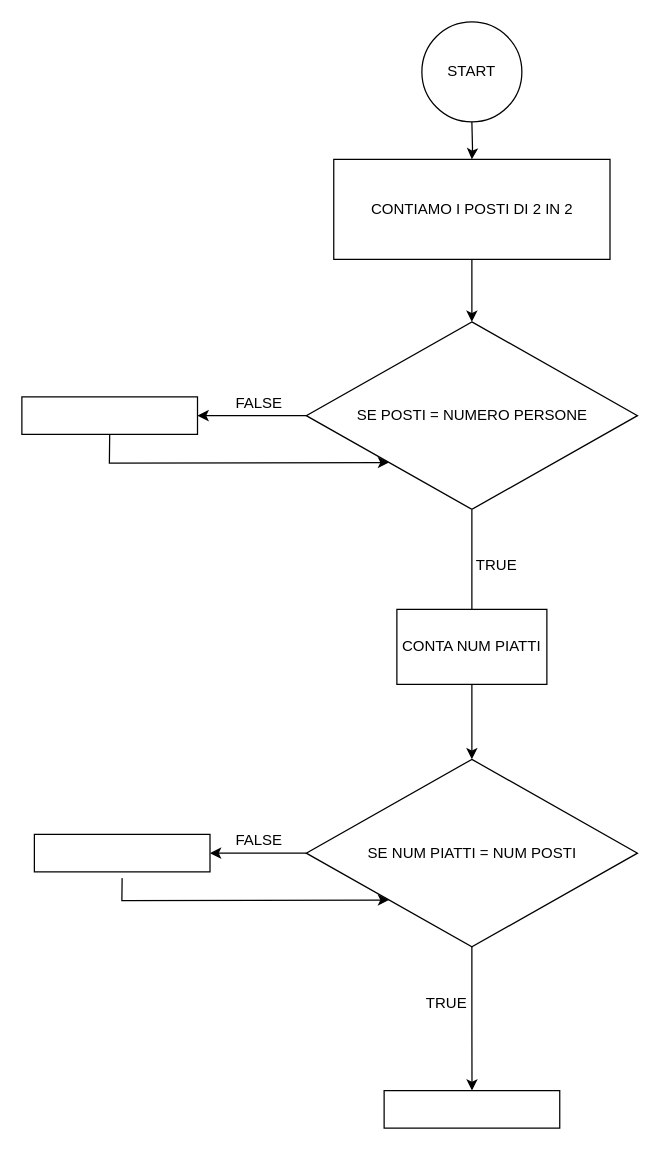
Image size: 660x1150. Some labels were removed from this diagram. Here are the shapes that lost their labels. From the top down, the box of each, then its label:
(21, 396, 198, 434): AGGIUNGI SEDIA
(33, 833, 210, 872): AGGIUNGI PIATTO
(383, 1089, 560, 1128): SI MANGIA
